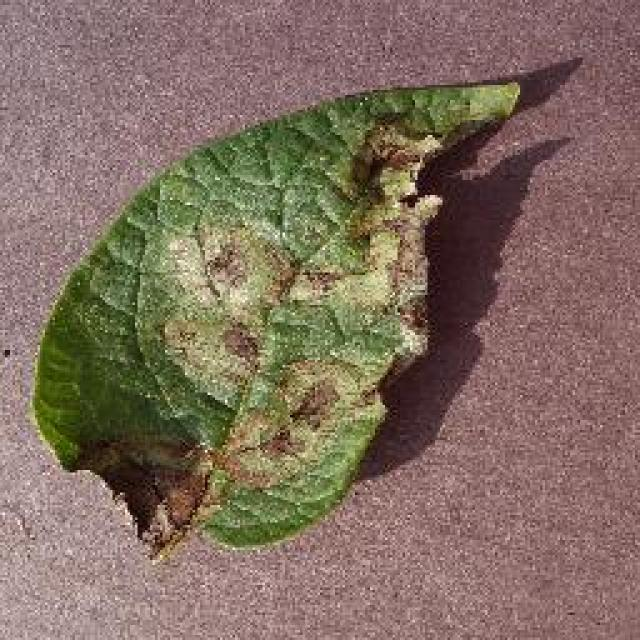Potato___Late_blight: (20, 63, 538, 575)
